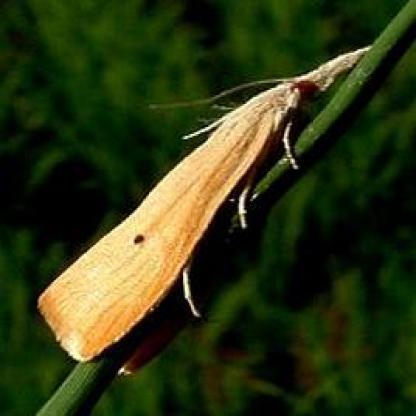stem-borer: (32, 41, 377, 374)
